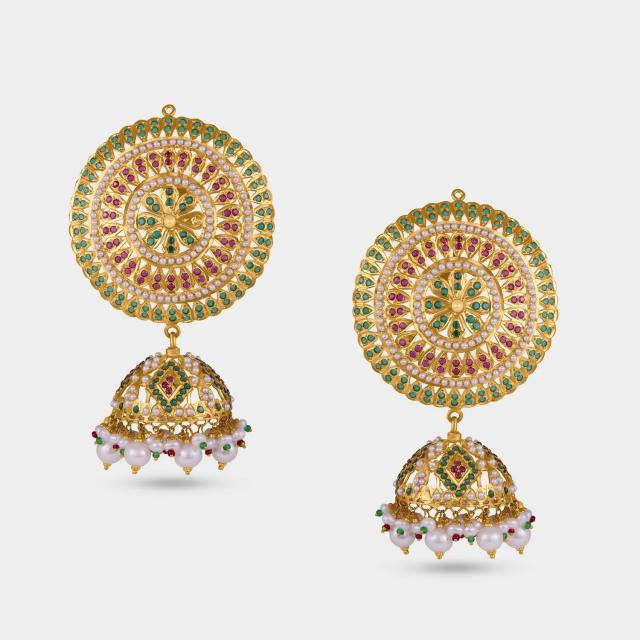missing gem: (193, 217, 201, 225), (422, 492, 429, 499), (407, 334, 413, 341), (171, 382, 178, 388), (182, 217, 188, 223)
